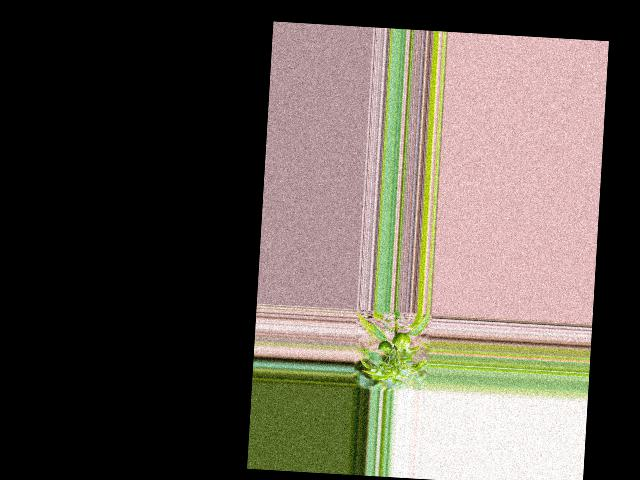bell_pepper: (377, 339, 392, 354)
